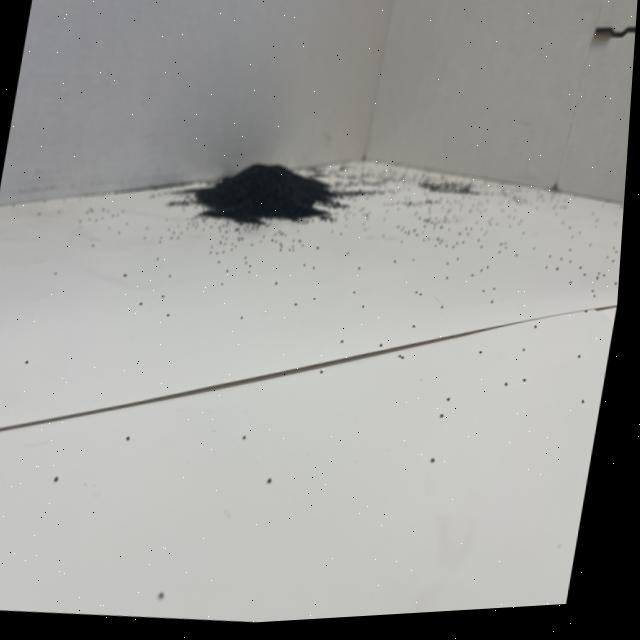Poppy Seeds: (169, 114, 357, 255)
